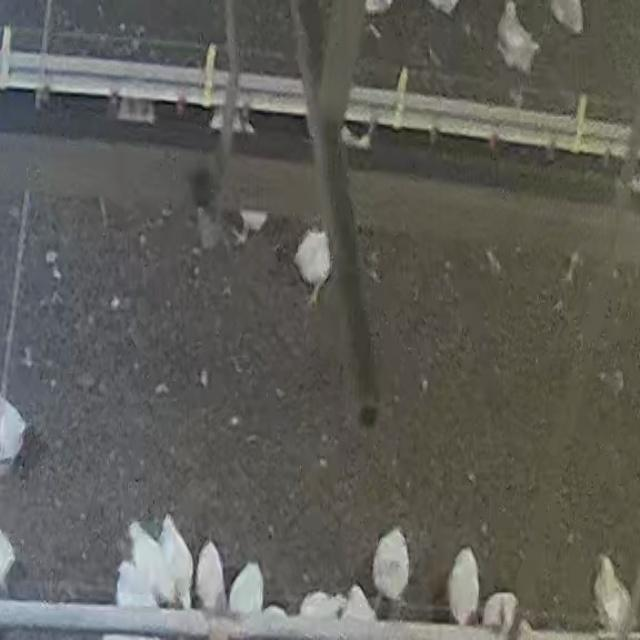chicken: (152, 511, 194, 615), (295, 209, 334, 300), (192, 541, 229, 634), (493, 0, 540, 73), (371, 524, 411, 602), (596, 554, 632, 633), (446, 544, 481, 625), (130, 525, 160, 610), (225, 561, 258, 637)
